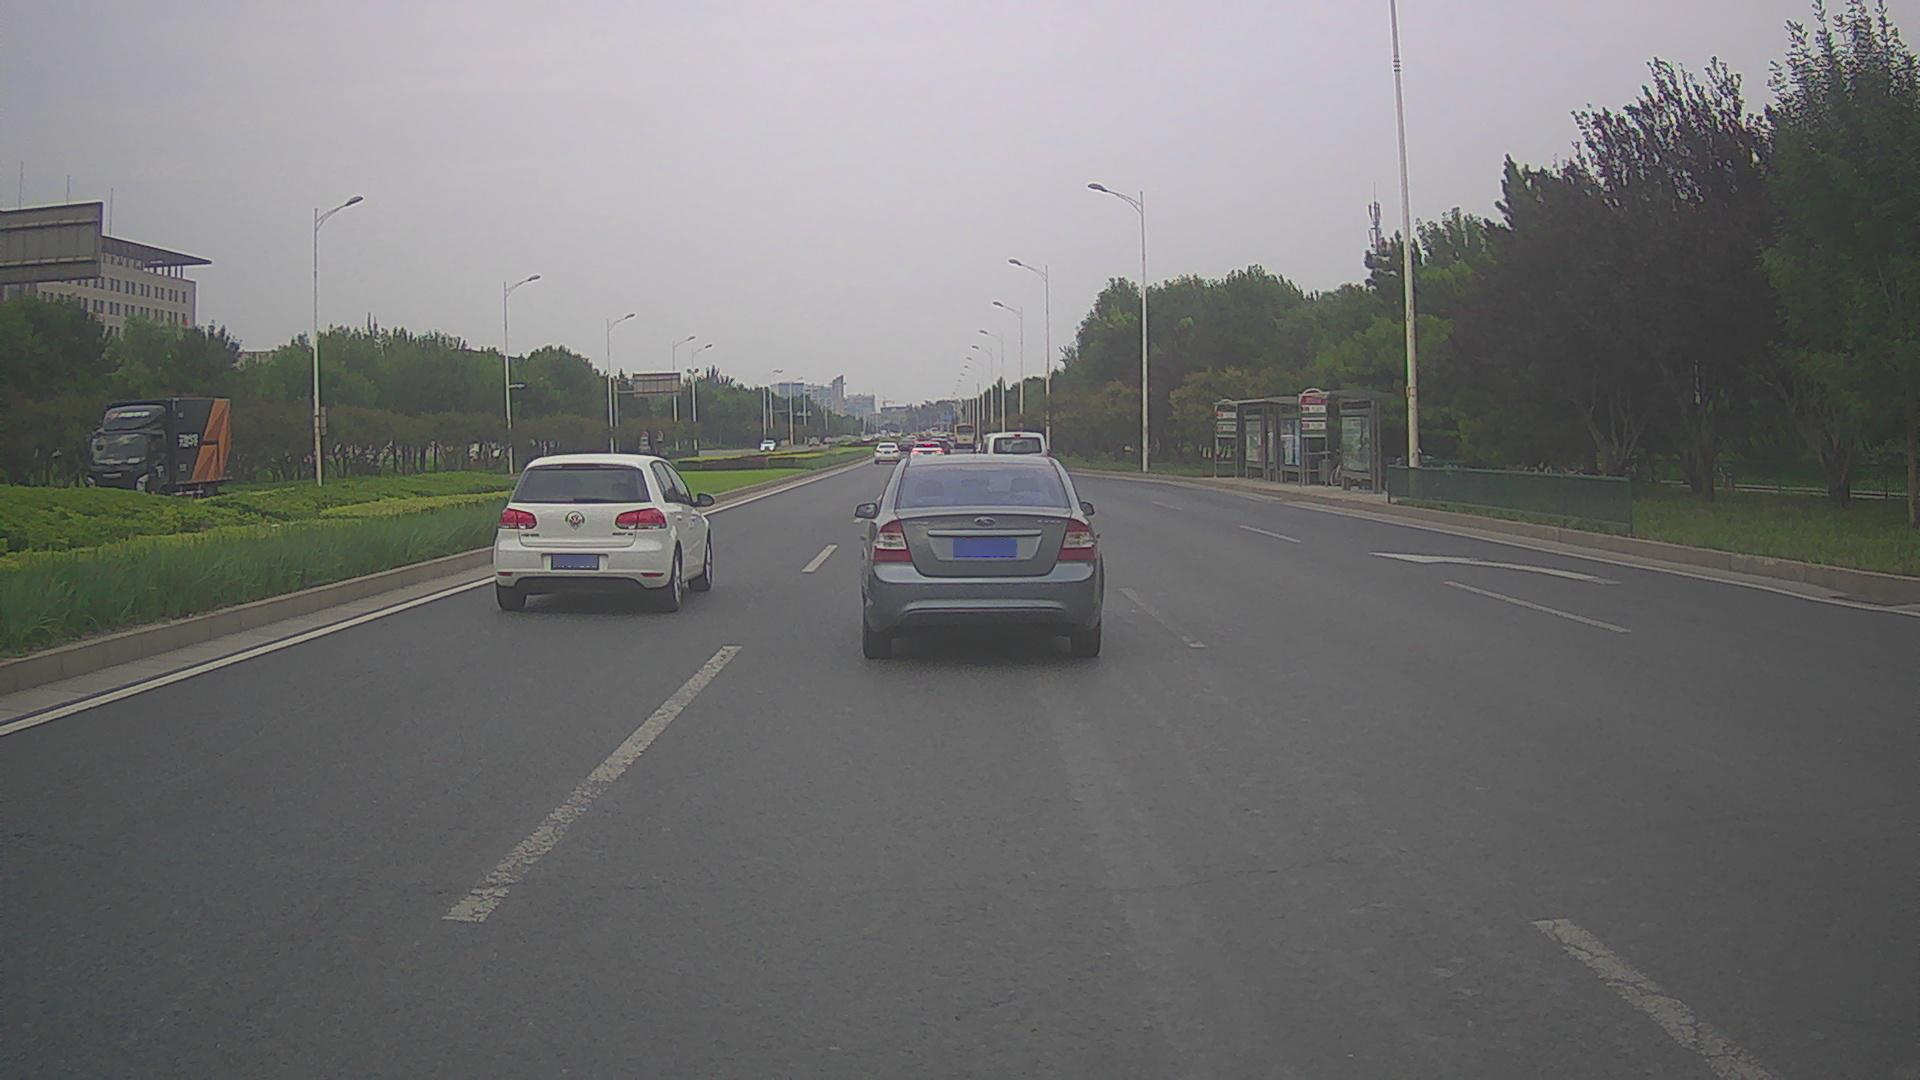bus: (953, 425, 976, 448), (887, 422, 901, 438)
car: (855, 454, 1104, 658), (491, 454, 715, 609), (909, 439, 945, 463), (927, 436, 952, 459), (874, 442, 899, 463), (758, 438, 775, 452), (897, 439, 915, 452), (808, 436, 820, 448), (822, 436, 833, 444)
ignore: (469, 440, 501, 464), (919, 426, 952, 439), (860, 430, 886, 443)
truck: (87, 396, 233, 504)
van: (978, 433, 1051, 483)
